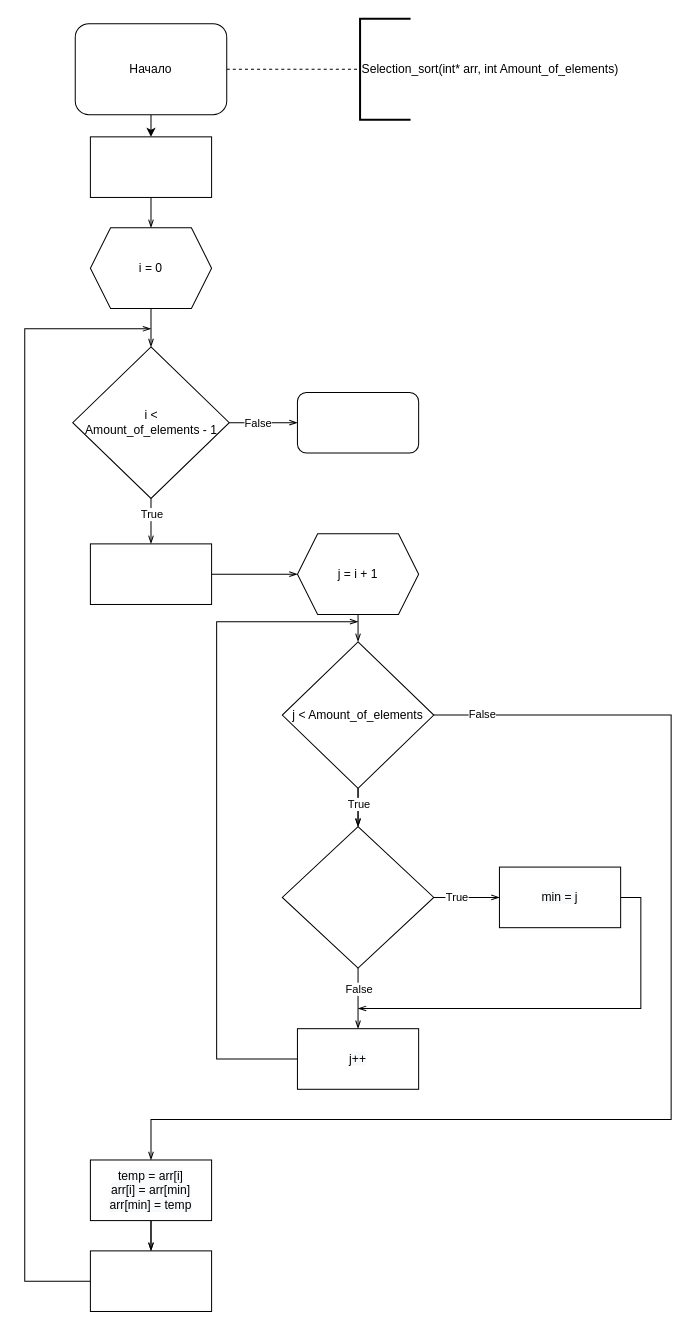
Some shapes in this 697 by 1334 pixel diagram are drawn without their labels. The shapes that lost their labels are listed below. From the top down, each one's centre as x and y in pixels, then its label:
At (150,166): "int min, temp".
At (357,422): "Окончание".
At (150,573): "min = i".
At (357,897): "arr[j] < arr[min]".
At (150,1280): "i++".
